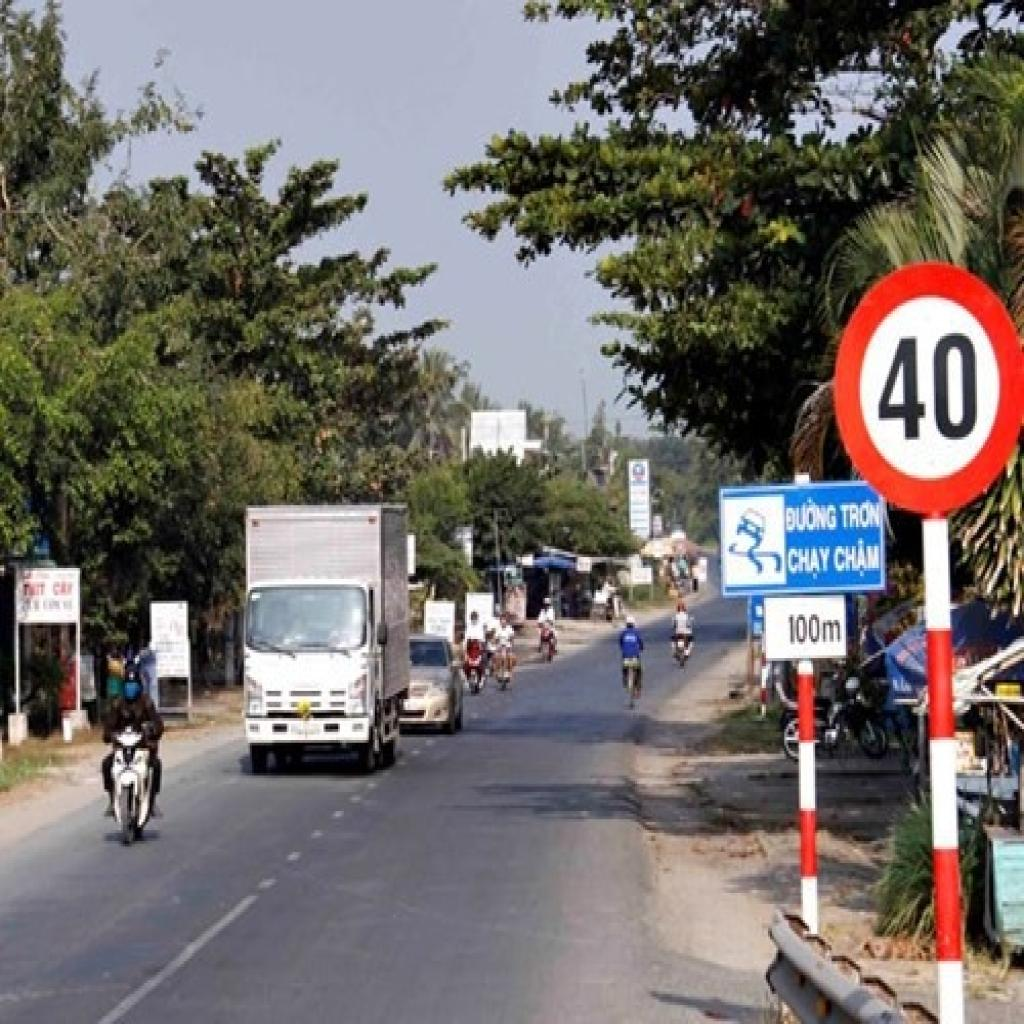text: (875, 328, 985, 450), (784, 494, 840, 538), (832, 535, 882, 582), (786, 612, 844, 647), (786, 544, 834, 584), (838, 497, 882, 532)
